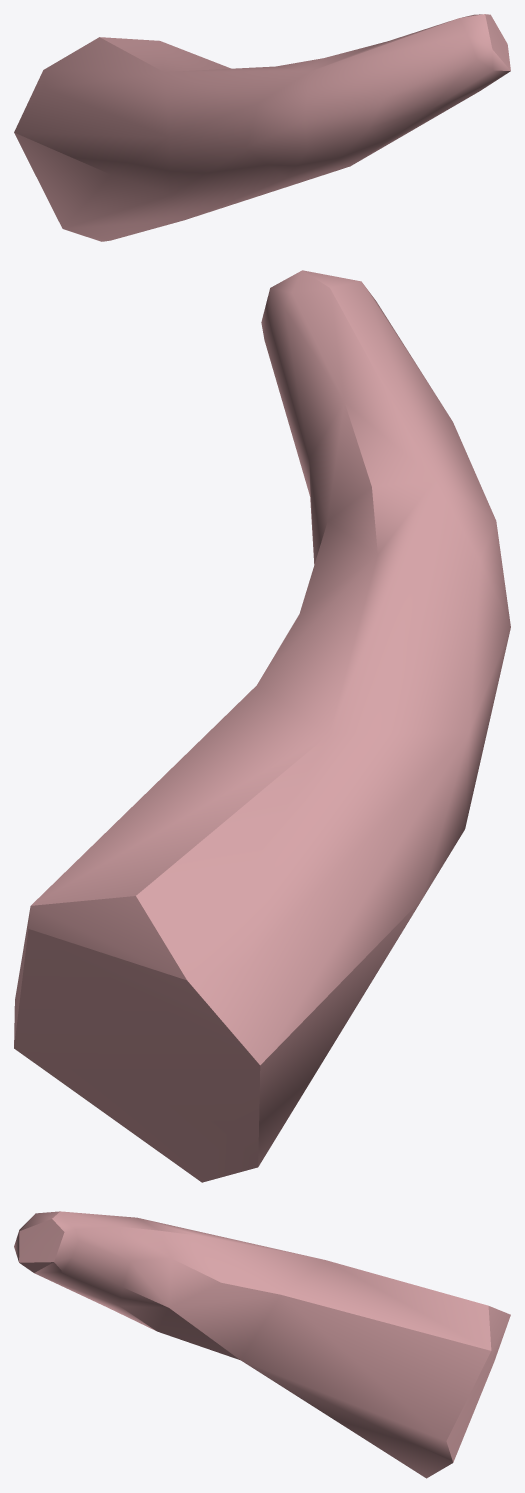
Rendered from fma68222_fj6500.glb.
The picture shows the model from 3 angles, top to bottom: view 1: azimuth 30°, elevation 25°; view 2: azimuth 150°, elevation 25°; view 3: azimuth 270°, elevation 25°; orthographic projection. The views are drawn at different scales.
Visible parts, largest first — view 1: FMA68222_FJ6500; view 2: FMA68222_FJ6500; view 3: FMA68222_FJ6500.
Boxes of the visible parts, x1,y1,x2,y2 form: FMA68222_FJ6500: [14, 14, 510, 241]; FMA68222_FJ6500: [14, 270, 510, 1182]; FMA68222_FJ6500: [14, 1211, 510, 1478].
Bounding box in the file's own units: 0.00592 × 0.00804 × 0.0115.
